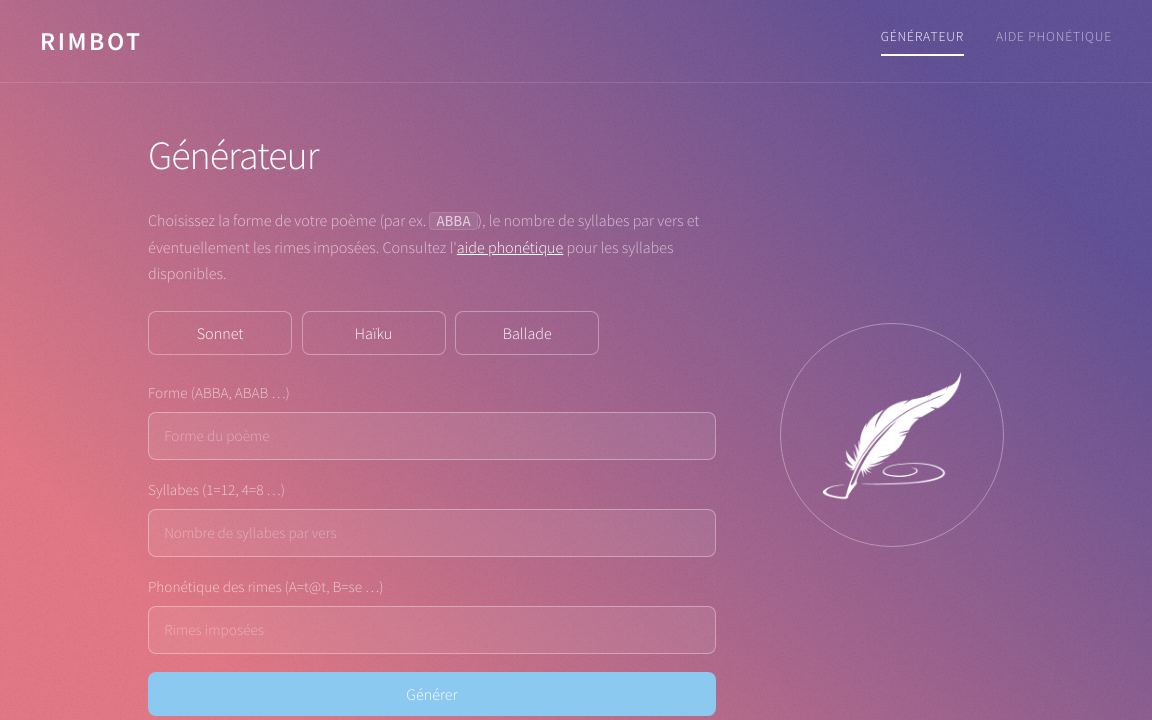
Test: Page d'accueil › preset Sonnet remplit le champ forme
Click the button "Sonnet" at (220, 333), box [148,311,292,355]
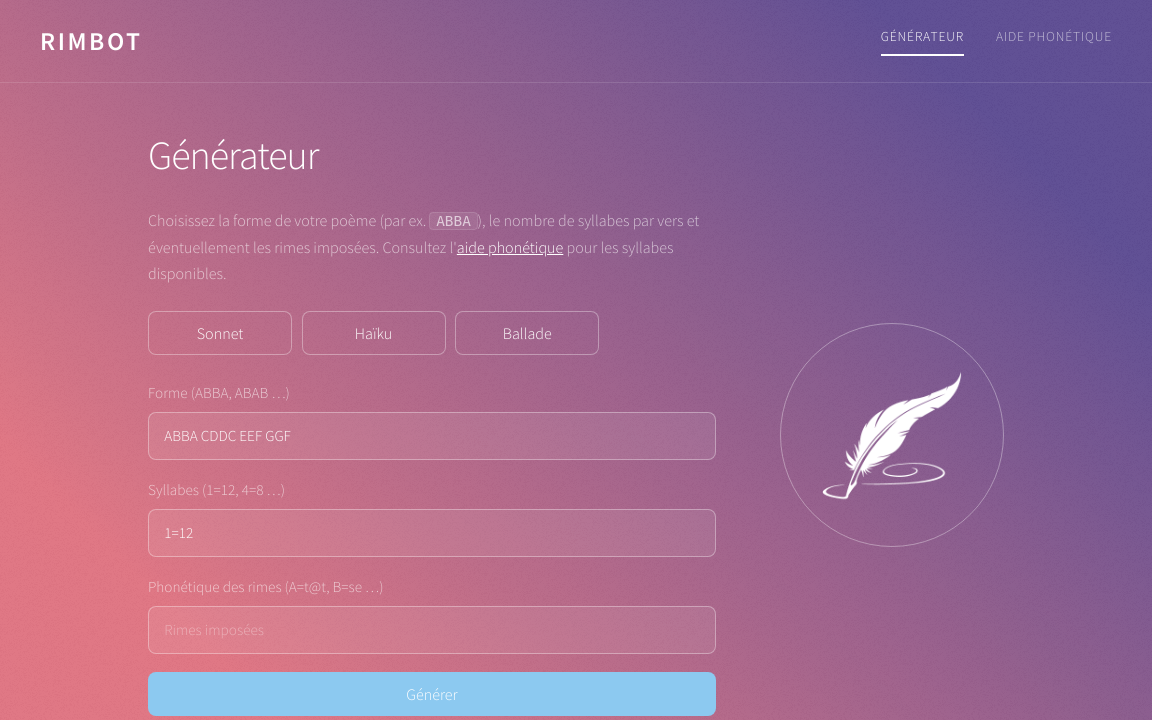
Check: the field labelled "Forme (ABBA, ABAB …)" holds "ABBA CDDC EEF GGF", box [148,412,716,460]
